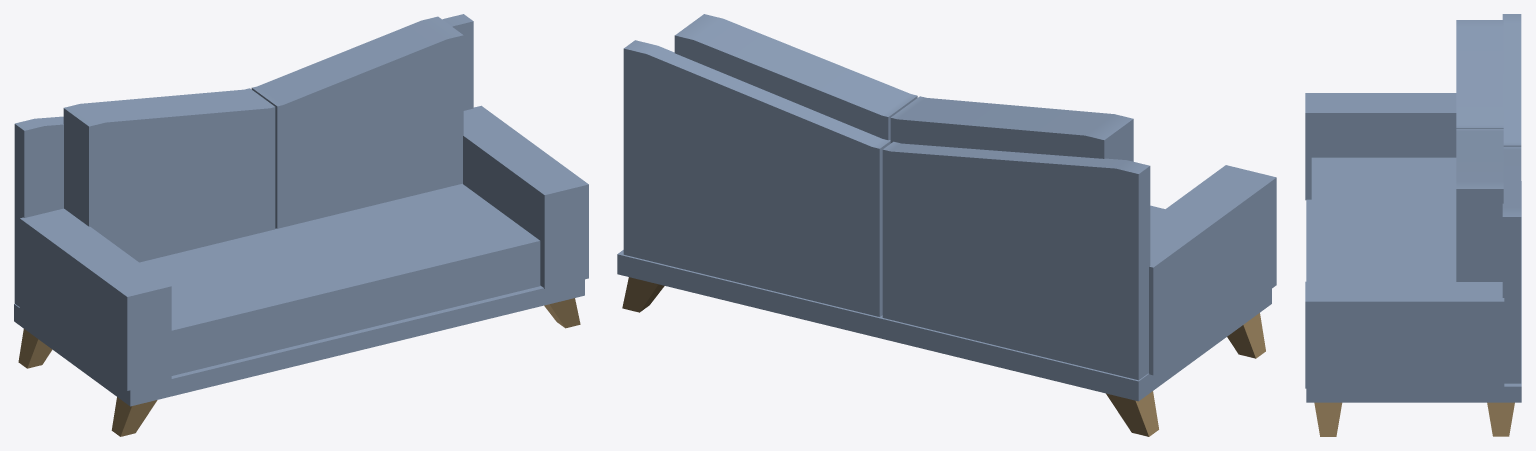
File: M_Sillon Grande.fbx
The picture shows the model from 3 angles, left to right: view 1: azimuth 30°, elevation 25°; view 2: azimuth 150°, elevation 25°; view 3: azimuth 270°, elevation 25°; orthographic projection. The views are drawn at different scales.
Parts seen in each view (by area): view 1: pCube6, pCube3, pCube2, pCube1, pCube5, pCube7, pCube10, pCube8, pCube9, pCube11, pCube12, pCube15; view 2: pCube8, pCube9, pCube5, pCube10, pCube6, pCube3, pCube12, pCube11, pCube14; view 3: pCube7, pCube1, pCube5, pCube6, pCube2, pCube3, pCube9, pCube10, pCube8, pCube15, pCube14.
Boxes of the visible parts, box(x1,y1,x2,y2) form: pCube6: box(251, 16, 463, 228); pCube3: box(63, 88, 275, 262); pCube2: box(276, 183, 540, 331); pCube1: box(139, 229, 354, 375); pCube5: box(19, 208, 171, 390); pCube7: box(463, 105, 588, 288); pCube10: box(14, 279, 584, 406); pCube8: box(14, 116, 63, 306); pCube9: box(442, 14, 473, 110); pCube11: box(111, 397, 157, 436); pCube12: box(18, 329, 52, 368); pCube15: box(544, 298, 580, 328); pCube8: box(882, 141, 1150, 380); pCube9: box(623, 40, 890, 316); pCube5: box(1148, 165, 1276, 375); pCube10: box(617, 250, 1271, 401); pCube6: box(674, 14, 917, 140); pCube3: box(890, 96, 1133, 161); pCube12: box(1106, 391, 1158, 436); pCube11: box(1227, 313, 1265, 358); pCube14: box(622, 277, 664, 312); pCube7: box(1305, 281, 1504, 388); pCube1: box(1311, 157, 1456, 241); pCube5: box(1305, 93, 1456, 200); pCube6: box(1456, 128, 1503, 281); pCube2: box(1311, 241, 1456, 281); pCube3: box(1456, 20, 1503, 128); pCube9: box(1502, 146, 1521, 383); pCube10: box(1306, 181, 1521, 402); pCube8: box(1502, 14, 1521, 146); pCube15: box(1314, 402, 1342, 436); pCube14: box(1487, 402, 1514, 436).
Size of the model in its own units: 25.92 by 13.22 by 11.37.
